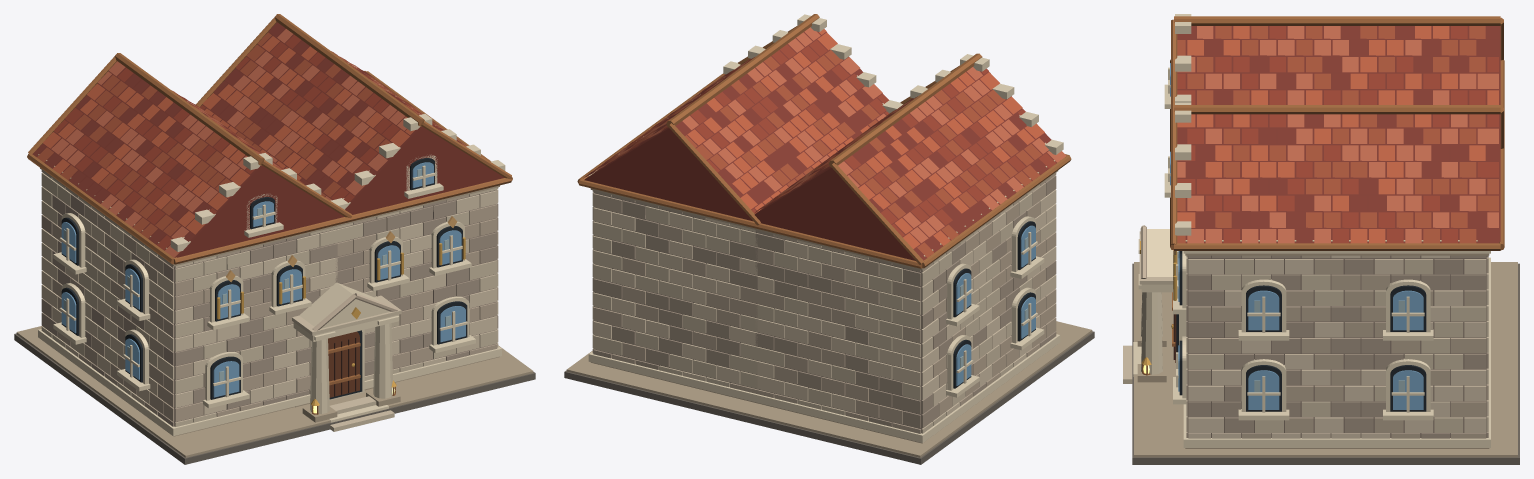
The model's file is noble-nivel-3.glb.
3 views of the same model, side by side, from view 1: azimuth 30°, elevation 25°; view 2: azimuth 150°, elevation 25°; view 3: azimuth 270°, elevation 25° (orthographic). The views are drawn at different scales.
Visible parts, largest first — view 1: Casa nobre 03 #853e33, Casa nobre 03 #e6d7ba, Casa nobre 03 #dac9af, Casa nobre 03 #ae9d8b, Casa nobre 03 #c1af99, Casa nobre 03 #d3c3a9, Casa nobre 03 #b4a38a, Casa nobre 03 #a76e42, Casa nobre 03 #bf6243, Casa nobre 03 #a8563c, Casa nobre 03 #c06b4f, Casa nobre 03 #9b4735 (+7 smaller); view 2: Casa nobre 03 #853e33, Casa nobre 03 #d3c3a9, Casa nobre 03 #dac9af, Casa nobre 03 #c1af99, Casa nobre 03 #ae9d8b, Casa nobre 03 #e6d7ba, Casa nobre 03 #a76e42, Casa nobre 03 #bf6243, Casa nobre 03 #b4a38a, Casa nobre 03 #a8563c, Casa nobre 03 #c06b4f, Casa nobre 03 #9b4735 (+4 smaller); view 3: Casa nobre 03 #853e33, Casa nobre 03 #e6d7ba, Casa nobre 03 #b4a38a, Casa nobre 03 #c06b4f, Casa nobre 03 #a8563c, Casa nobre 03 #c1af99, Casa nobre 03 #dac9af, Casa nobre 03 #ae9d8b, Casa nobre 03 #a76e42, Casa nobre 03 #9b4735, Casa nobre 03 #bf6243, Casa nobre 03 #d3c3a9 (+4 smaller).
Part boxes in pixels (<box>): Casa nobre 03 #853e33: <box>32,22,504,257</box>; Casa nobre 03 #e6d7ba: <box>38,114,505,436</box>; Casa nobre 03 #dac9af: <box>41,189,498,414</box>; Casa nobre 03 #ae9d8b: <box>41,187,498,426</box>; Casa nobre 03 #c1af99: <box>41,170,498,421</box>; Casa nobre 03 #d3c3a9: <box>41,173,498,431</box>; Casa nobre 03 #b4a38a: <box>16,168,533,457</box>; Casa nobre 03 #a76e42: <box>27,14,512,414</box>; Casa nobre 03 #bf6243: <box>43,36,441,234</box>; Casa nobre 03 #a8563c: <box>37,32,439,238</box>; Casa nobre 03 #c06b4f: <box>51,29,466,257</box>; Casa nobre 03 #9b4735: <box>54,34,439,250</box>; Casa nobre 03 #853e33: <box>583,31,1056,260</box>; Casa nobre 03 #d3c3a9: <box>592,192,1056,433</box>; Casa nobre 03 #dac9af: <box>592,184,1056,415</box>; Casa nobre 03 #c1af99: <box>592,173,1056,433</box>; Casa nobre 03 #ae9d8b: <box>592,175,1056,428</box>; Casa nobre 03 #e6d7ba: <box>588,14,1063,442</box>; Casa nobre 03 #a76e42: <box>577,14,1071,268</box>; Casa nobre 03 #bf6243: <box>634,29,1044,248</box>; Casa nobre 03 #b4a38a: <box>566,170,1092,457</box>; Casa nobre 03 #a8563c: <box>593,50,1041,257</box>; Casa nobre 03 #c06b4f: <box>594,27,1066,243</box>; Casa nobre 03 #9b4735: <box>602,40,1056,236</box>; Casa nobre 03 #853e33: <box>1177,26,1500,243</box>; Casa nobre 03 #e6d7ba: <box>1133,14,1490,447</box>; Casa nobre 03 #b4a38a: <box>1134,253,1517,457</box>; Casa nobre 03 #c06b4f: <box>1177,26,1498,243</box>; Casa nobre 03 #a8563c: <box>1177,26,1498,243</box>; Casa nobre 03 #c1af99: <box>1140,225,1488,438</box>; Casa nobre 03 #dac9af: <box>1186,255,1488,438</box>; Casa nobre 03 #ae9d8b: <box>1186,255,1488,438</box>; Casa nobre 03 #a76e42: <box>1142,16,1504,375</box>; Casa nobre 03 #9b4735: <box>1177,26,1498,243</box>; Casa nobre 03 #bf6243: <box>1177,26,1498,243</box>; Casa nobre 03 #d3c3a9: <box>1123,231,1488,432</box>.
Bounding box in the file's own units: 8.95 × 6.59 × 7.72.
